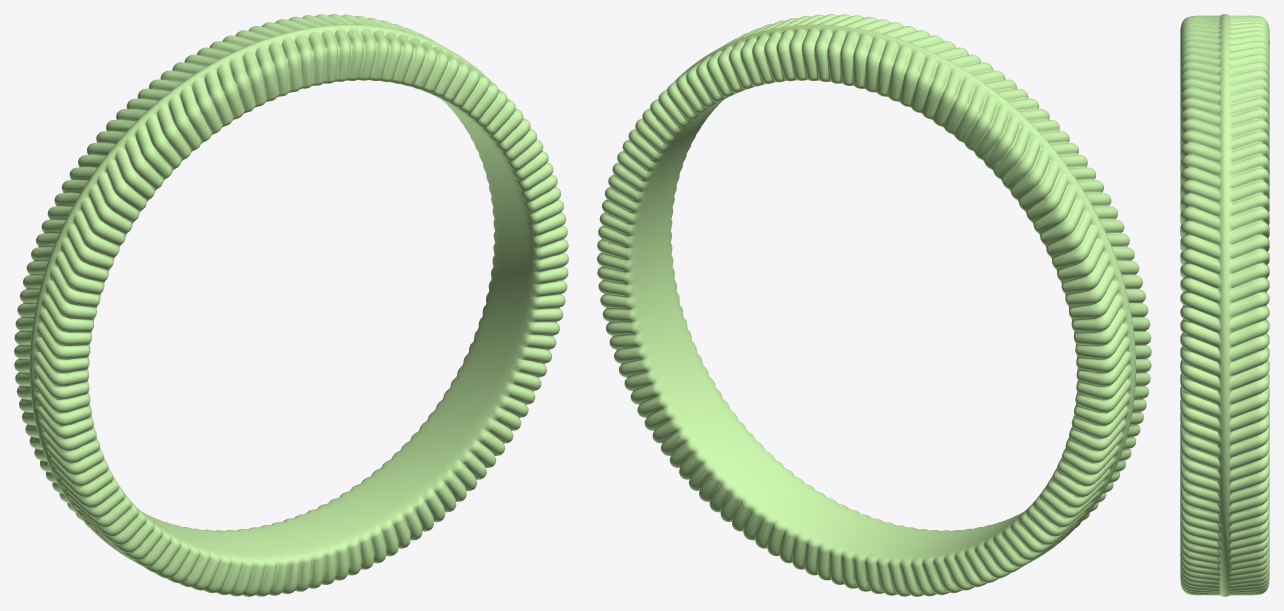
Rendered from BE2523_RENDER.glb.
3 renders of one model, left to right at view 1: azimuth 30°, elevation 25°; view 2: azimuth 150°, elevation 25°; view 3: azimuth 270°, elevation 25°, orthographic. The views are drawn at different scales.
Visible parts, largest first — view 1: Metal03; view 2: Metal03; view 3: Metal03.
Part boxes in pixels (bbox=[...]): Metal03: bbox=[14, 14, 568, 596]; Metal03: bbox=[597, 14, 1151, 596]; Metal03: bbox=[1180, 14, 1269, 596].
Size of the model in its own units: 19.51 by 19.5 by 3.
